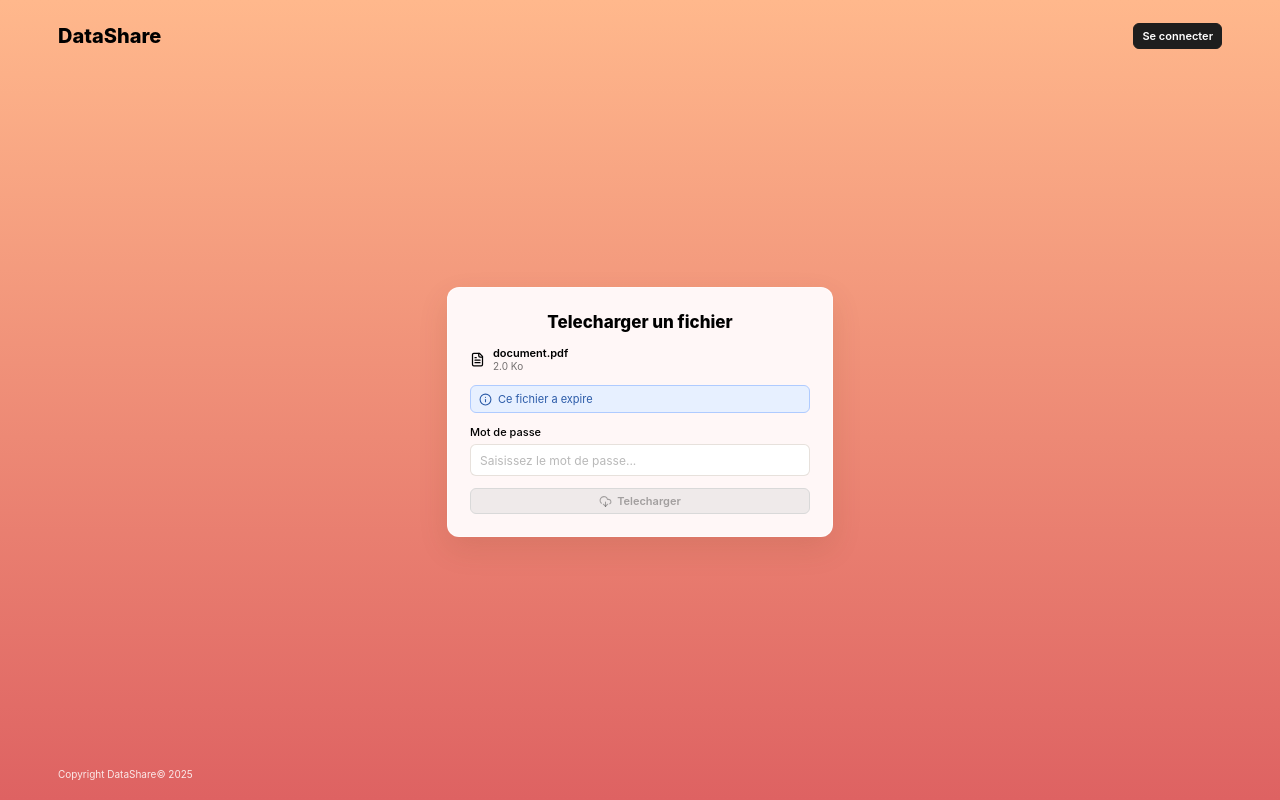
Test case: ShareLinkPage › submits the password and saves the returned binary file
The image size is (1280, 800).
expect the heading "Telecharger un fichier" is shown: met, box [547,312,733,332]
Step 1. Type "secret123" into the password field labelled "Mot de passe" → {"x": 640, "y": 460}, box [470,444,810,476]
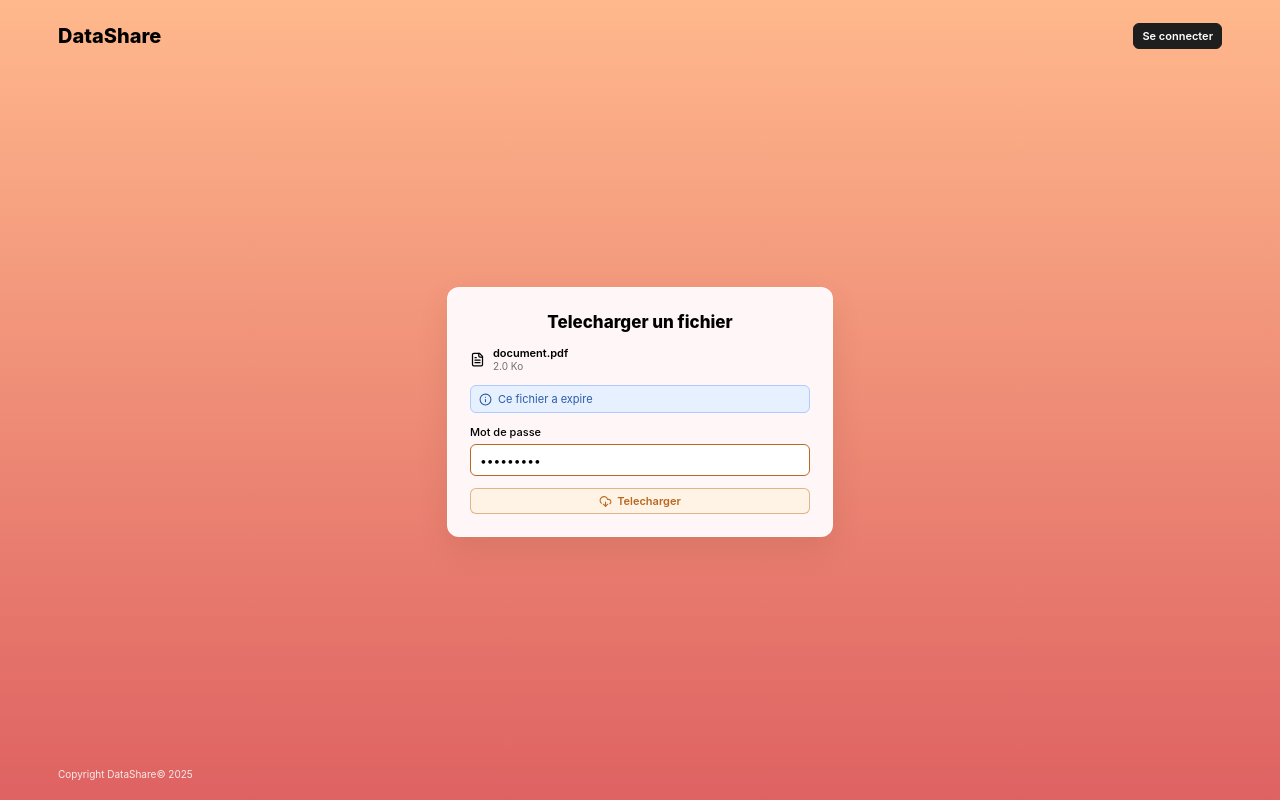
Step 2. Click the button "Telecharger" → {"x": 640, "y": 501}, box [470,488,810,514]
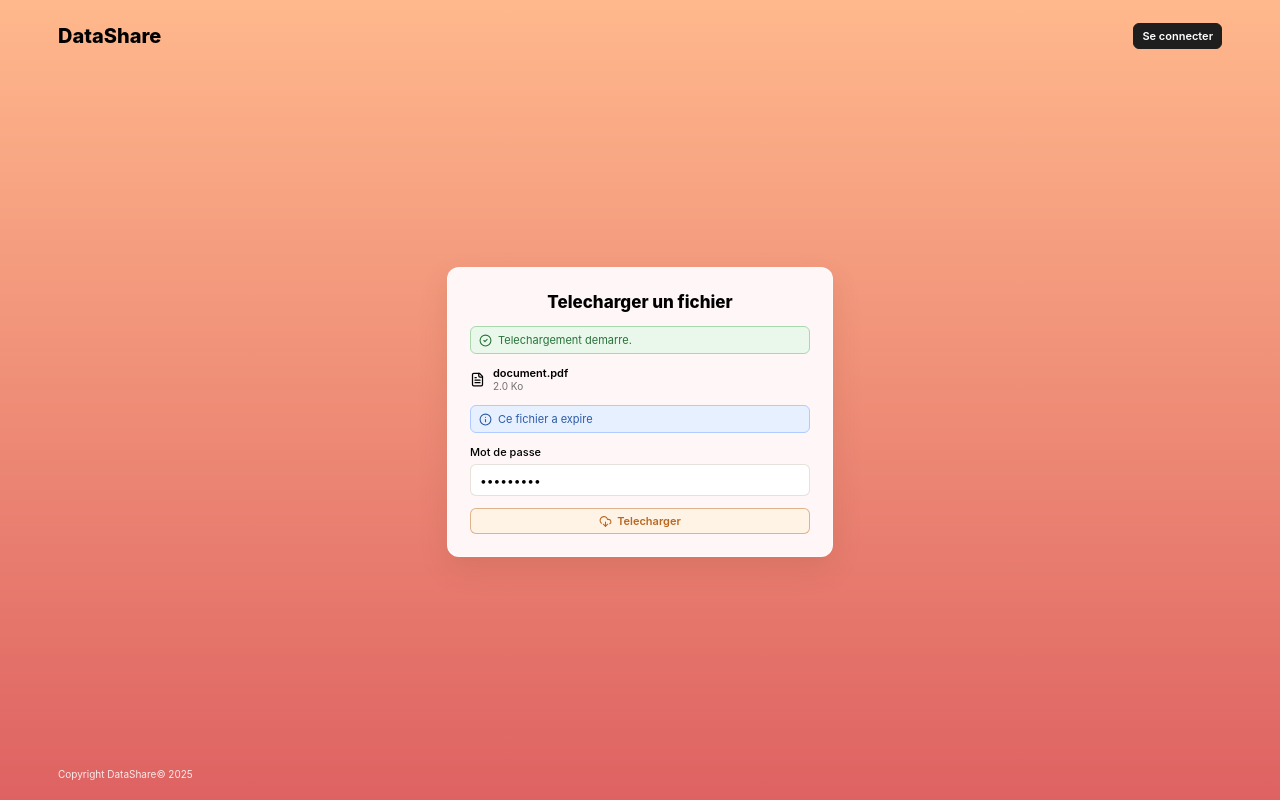
expect the text "Telechargement demarre." is shown: met, box [498,333,632,347]
